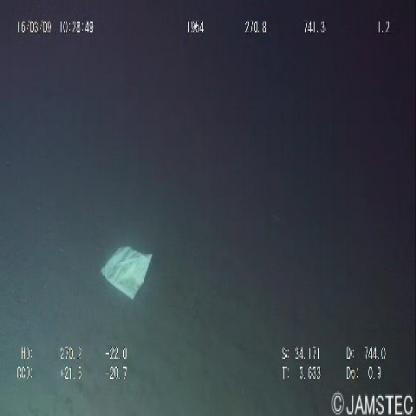Rác: (96, 237, 157, 308)
